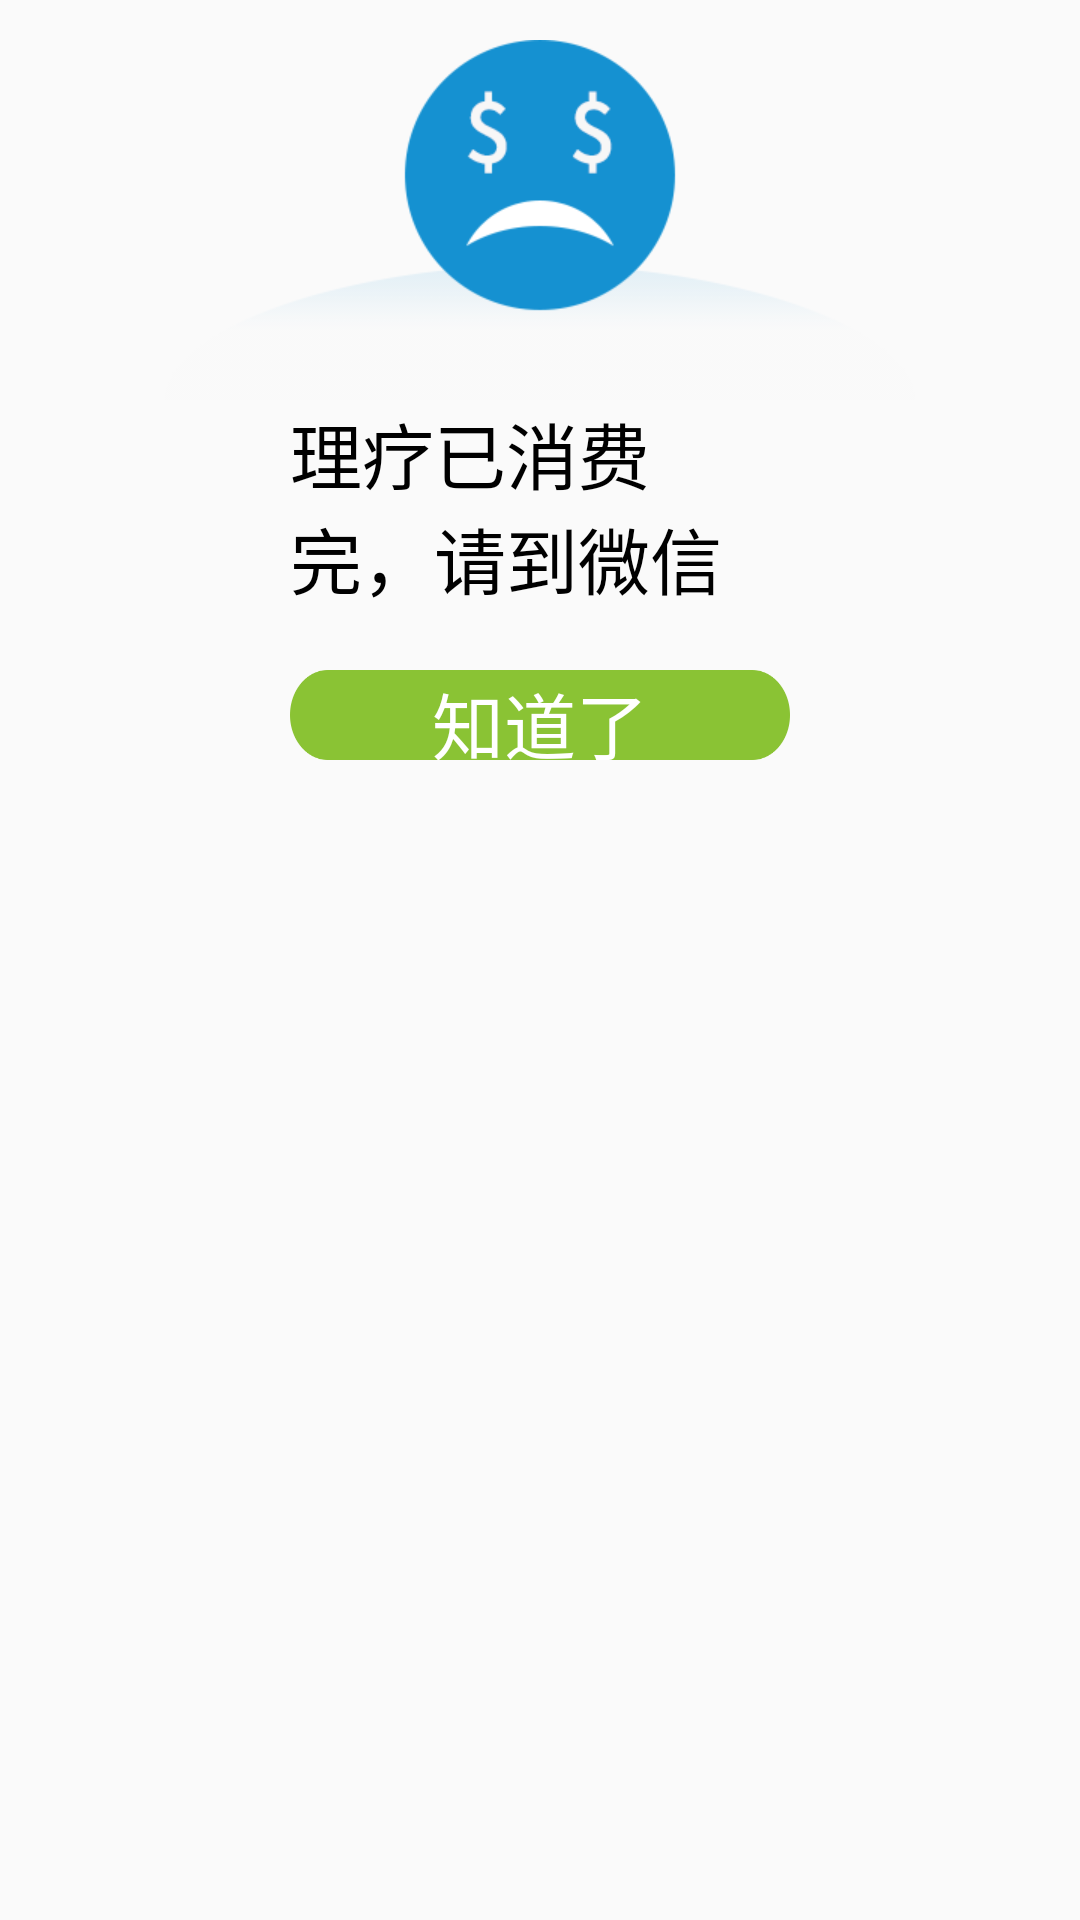

Icons on this 1080×1920 Android screen, each with its box as region(x1, y1, x2, y2):
popup nomoney: region(404, 40, 676, 311)
